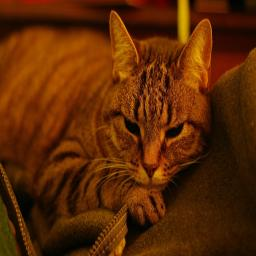catnose: (140, 156, 161, 180)
